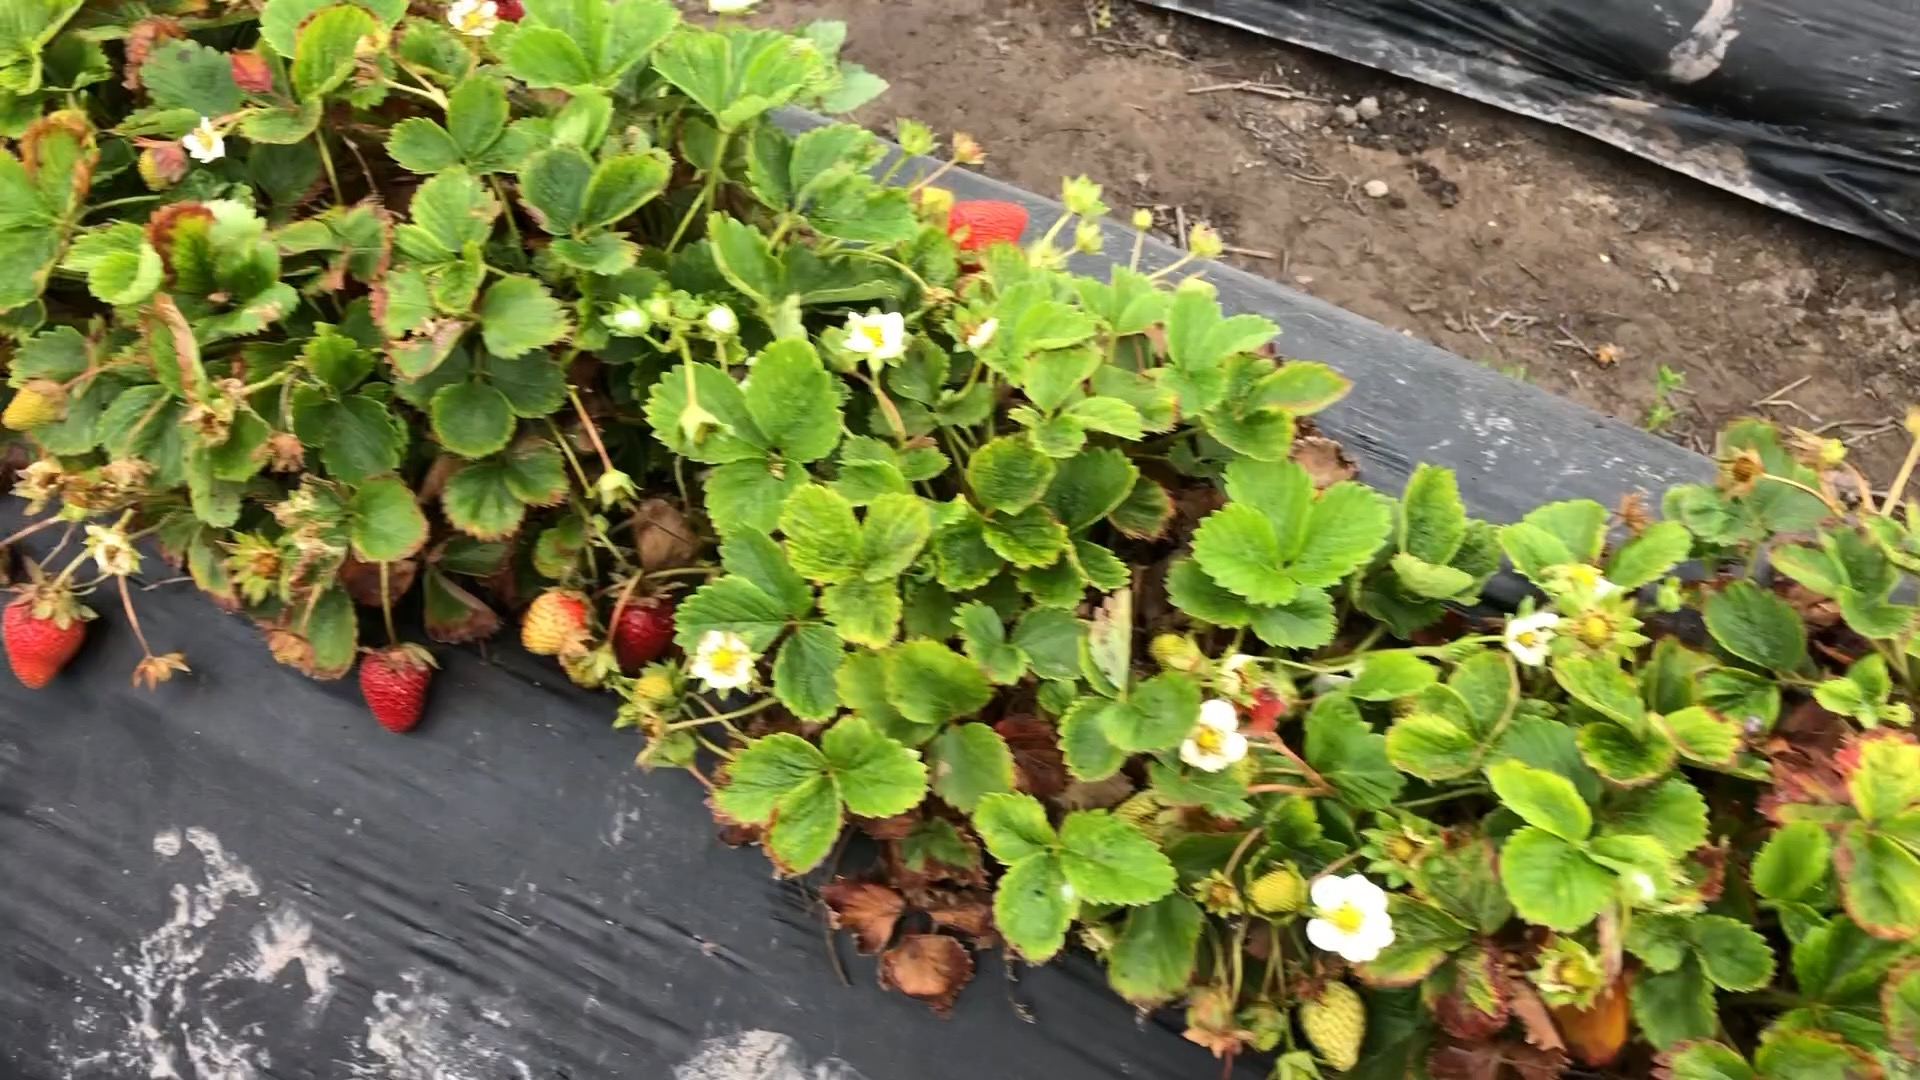ripe_strawberry: (1, 584, 98, 691), (357, 638, 440, 738), (944, 195, 1033, 276), (608, 589, 678, 678)
unripe_strawberry: (1296, 975, 1367, 1075), (520, 583, 603, 659), (1, 378, 78, 436), (1249, 866, 1309, 916), (1147, 632, 1205, 673), (629, 670, 675, 708)
